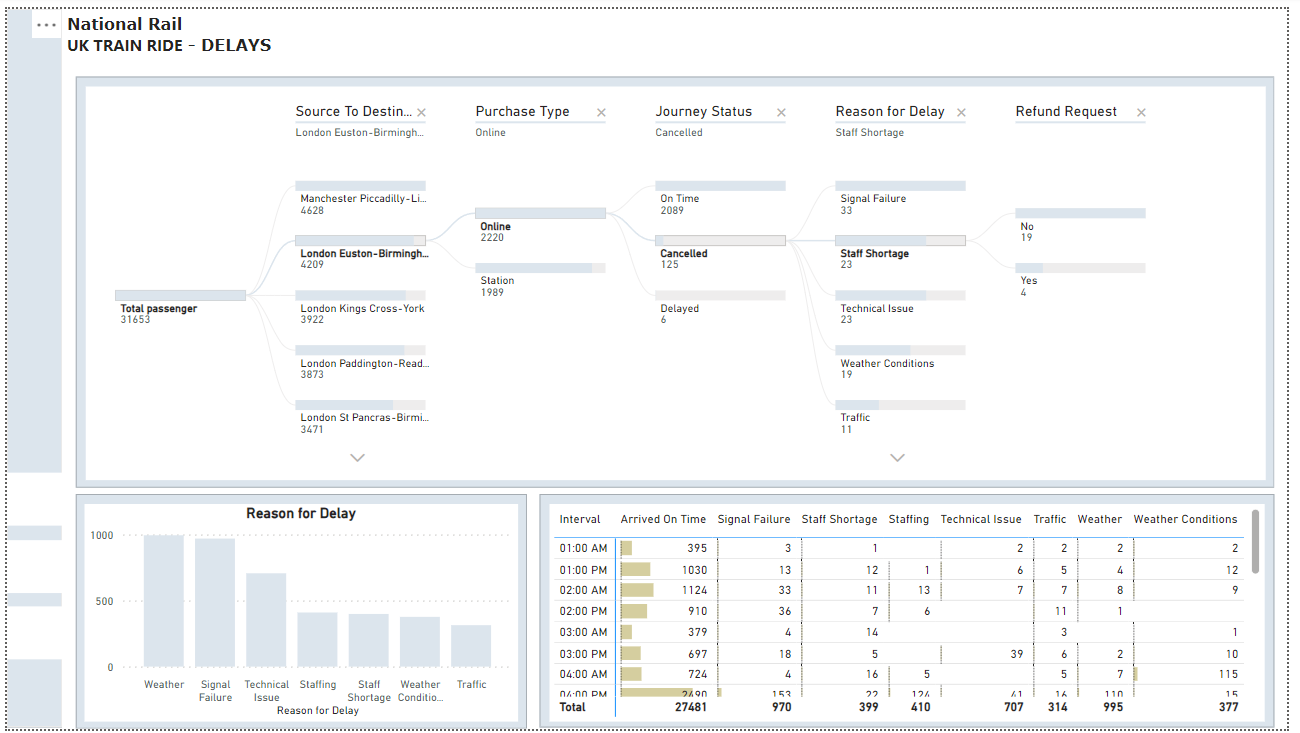

The dashboard page shown, as its layout file describes it:
{"tool":"powerbi","page":{"name":"Performance Overlay","canvas":[1280,720],"ordinal":2},"visuals":[{"type":"shape","box":[531.9,485.5,734.9,233.6],"z":0},{"type":"shape","box":[68.5,485.5,451.2,234.8],"z":1000},{"type":"shape","box":[68.8,67.5,1198.8,411.2],"z":2000},{"type":"shape","box":[0,0,55,718.8],"z":3000},{"type":"textbox","box":[55,0,245,58.8],"z":5000},{"type":"decompositionTreeVisual","fields":{"Analyze":["KPI Metrics.Total passenger"],"ExplainBy":["railway.Source To Destination","railway.Purchase Type","railway.Journey Status","railway.Reason for Delay","railway.Refund Request"]},"box":[78.3,78,1180,393.7],"z":6000},{"type":"actionButton","box":[0,598,55,52.6],"z":7000},{"type":"actionButton","box":[0,530.7,55,52.6],"z":8000},{"type":"actionButton","box":[0,463.5,55,52.6],"z":9000},{"type":"pivotTable","fields":{"Columns":["railway.Reason for Delay"],"Values":["KPI Metrics.Total passenger"],"Rows":["railway.Interval"]},"box":[543.1,495.4,715.4,217.7],"z":10000},{"type":"columnChart","title":"Reason for Delay","fields":{"Category":["railway.Reason for Delay"],"Y":["KPI Metrics.Total passenger"]},"box":[78.1,495.2,433.3,217.6],"z":11000}]}

Visuals, with their boxes on the page's 1280x720 design canvas (x1, y1, x2, y2). These are canvas units, not pixel positions in the 1300x733 screenshot, which may show the page scaled, cropped or inside an application window:
shape: (left=532, top=486, right=1267, bottom=719)
shape: (left=68, top=486, right=520, bottom=720)
shape: (left=69, top=68, right=1268, bottom=479)
shape: (left=0, top=0, right=55, bottom=719)
textbox: (left=55, top=0, right=300, bottom=59)
decompositionTreeVisual - KPI Metrics.Total passenger x railway.Source To Destination: (left=78, top=78, right=1258, bottom=472)
actionButton: (left=0, top=598, right=55, bottom=651)
actionButton: (left=0, top=531, right=55, bottom=583)
actionButton: (left=0, top=464, right=55, bottom=516)
pivotTable - railway.Reason for Delay x KPI Metrics.Total passenger: (left=543, top=495, right=1258, bottom=713)
"Reason for Delay" columnChart: (left=78, top=495, right=511, bottom=713)
